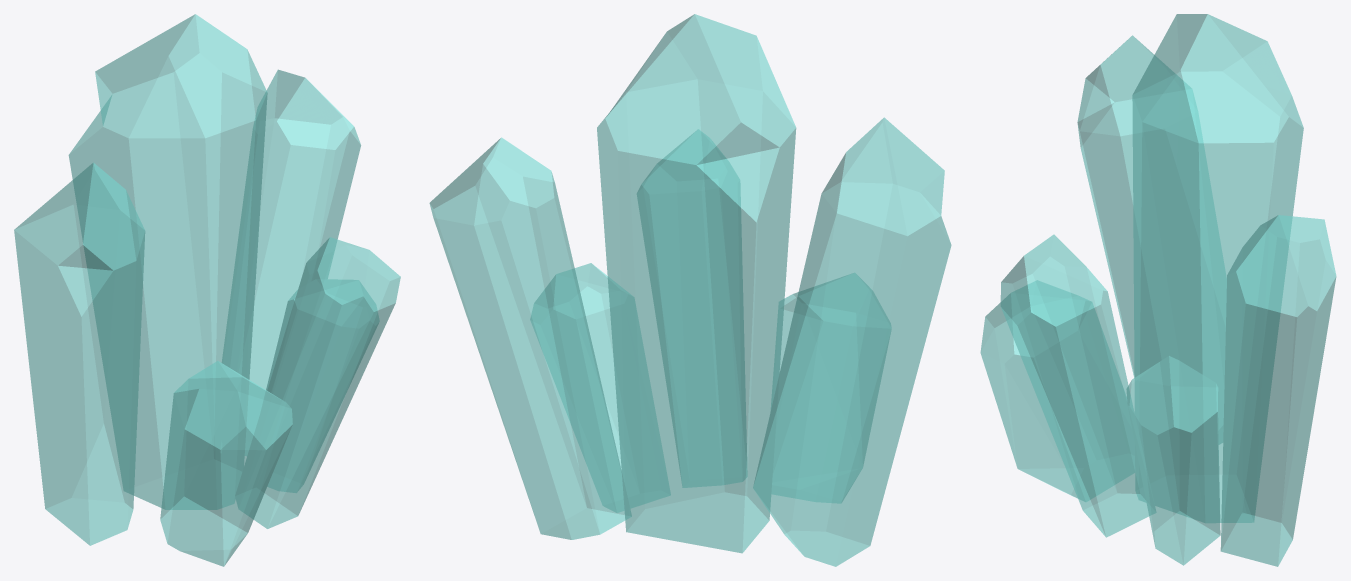
File: crystal.glb
The picture shows the model from 3 angles, left to right: view 1: azimuth 30°, elevation 25°; view 2: azimuth 150°, elevation 25°; view 3: azimuth 270°, elevation 25°; orthographic projection. The views are drawn at different scales.
Visible parts, largest first — view 1: Cube.003, Cube, Cube.004, Cube.002, Cube.005, Cube.001; view 2: Cube.003, Cube, Cube.004, Cube.002, Cube.005, Cube.001; view 3: Cube.003, Cube, Cube.004, Cube.002, Cube.005, Cube.001.
Part boxes in pixels (x1,y1,x2,y2): Cube.003: (68, 14, 267, 509); Cube: (14, 162, 145, 545); Cube.004: (222, 69, 360, 455); Cube.002: (235, 237, 400, 528); Cube.005: (160, 361, 292, 566); Cube.001: (262, 279, 379, 492); Cube.003: (597, 14, 796, 553); Cube: (753, 117, 951, 566); Cube.004: (429, 137, 631, 539); Cube.002: (637, 129, 747, 487); Cube.005: (771, 273, 891, 503); Cube.001: (530, 263, 670, 512); Cube.003: (1132, 14, 1303, 522); Cube: (1077, 35, 1226, 444); Cube.004: (1220, 215, 1336, 566); Cube.002: (1000, 234, 1155, 537); Cube.005: (980, 280, 1134, 501); Cube.001: (1126, 356, 1220, 565).
Size of the model in its own units: 1.87 by 2.24 by 1.44.
